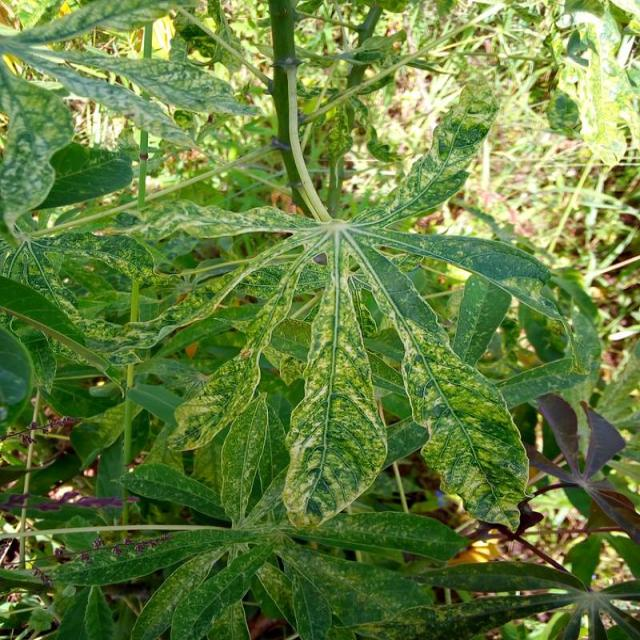cassava leaf: (151, 72, 562, 536), (281, 241, 388, 530)
